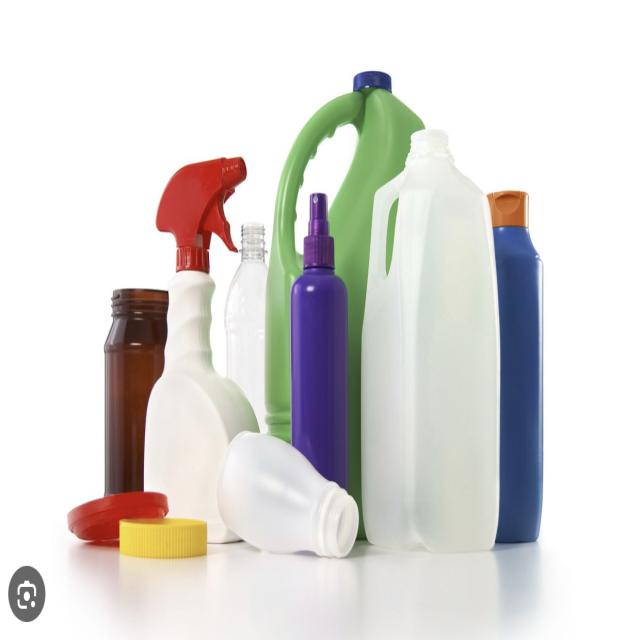recyclable: (355, 71, 511, 569), (122, 101, 286, 551), (275, 162, 369, 548)
